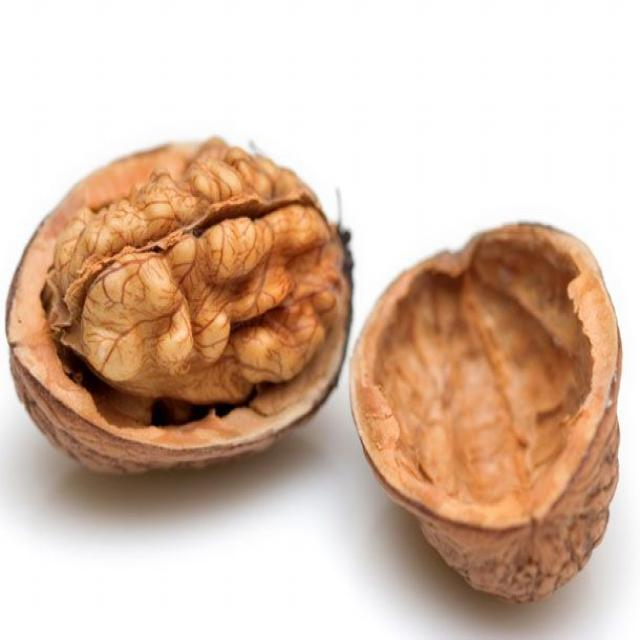Frutta secca: (41, 150, 347, 403)
